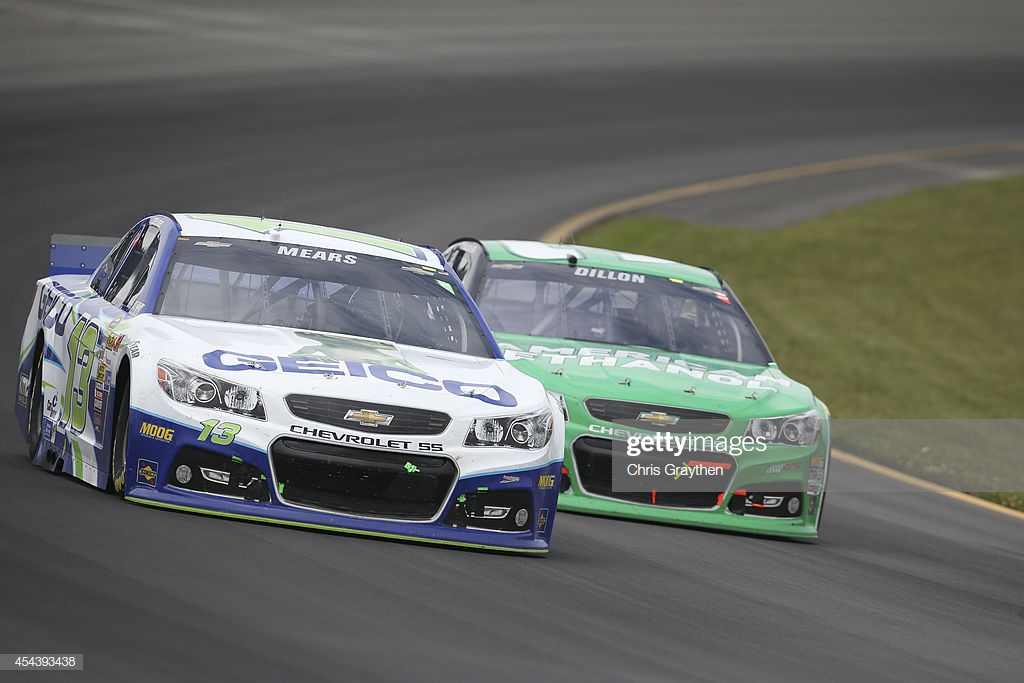Geico: (201, 342, 533, 404)
